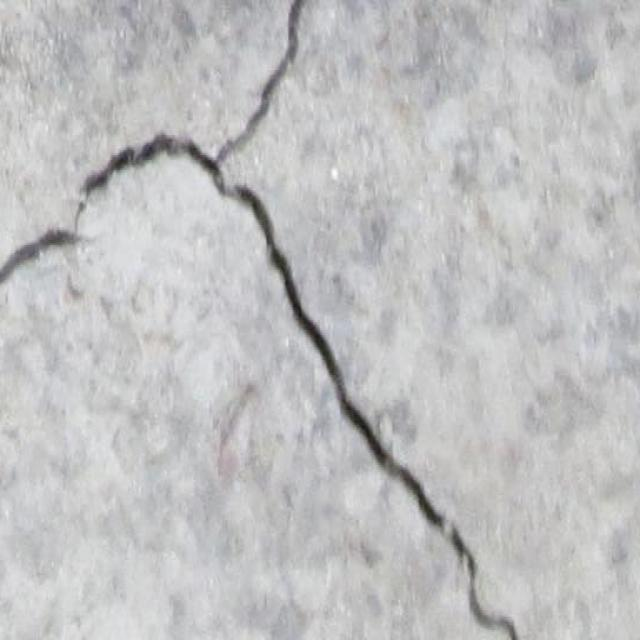crack: (0, 2, 533, 638)
